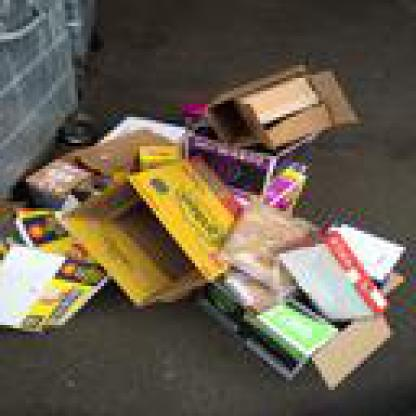CARDBOARD: (22, 113, 306, 240), (55, 156, 234, 306), (195, 267, 331, 377), (202, 58, 358, 146), (23, 130, 169, 208), (276, 230, 384, 322), (0, 238, 104, 328), (218, 198, 318, 290), (322, 214, 403, 292), (309, 315, 387, 384), (72, 126, 176, 176), (3, 204, 62, 240)
